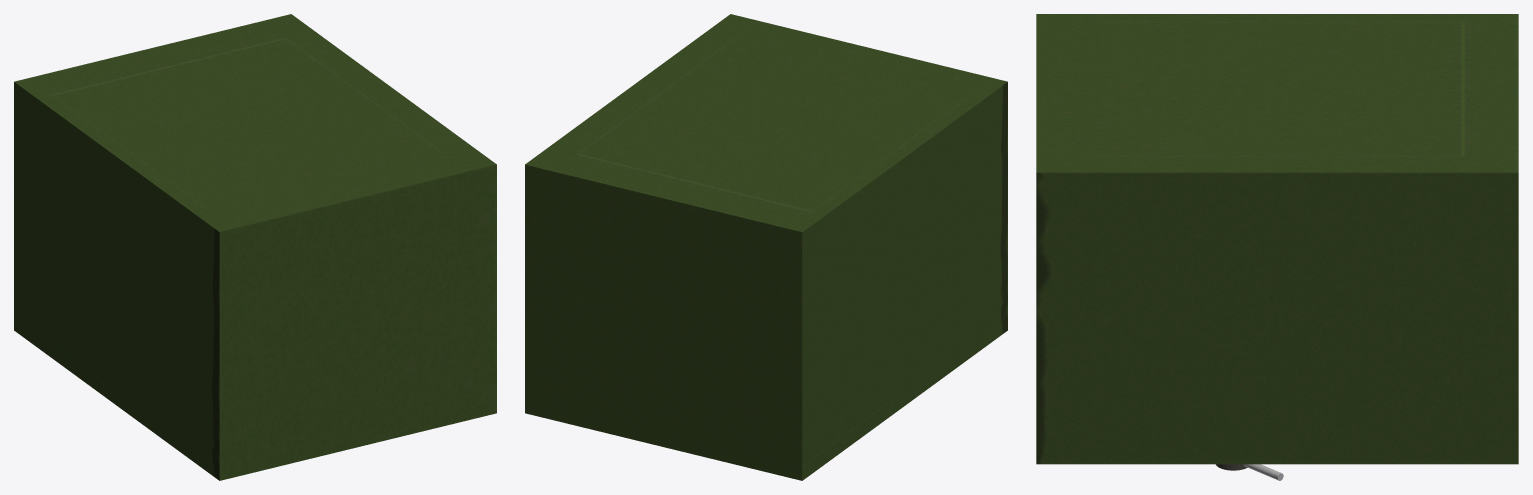
Rendered from vault.glb.
3 renders of one model, left to right at view 1: azimuth 30°, elevation 25°; view 2: azimuth 150°, elevation 25°; view 3: azimuth 270°, elevation 25°, orthographic. The views are drawn at different scales.
Visible parts, largest first — view 1: vault; view 2: vault; view 3: vault.
Boxes of the visible parts, box(x1,y1,x2,y2) form: vault: box(14, 14, 496, 480); vault: box(525, 14, 1007, 480); vault: box(1036, 14, 1518, 480).
Bounding box in the file's own units: 0.4602 × 0.445 × 0.5909.
1 material, 1 textured.
